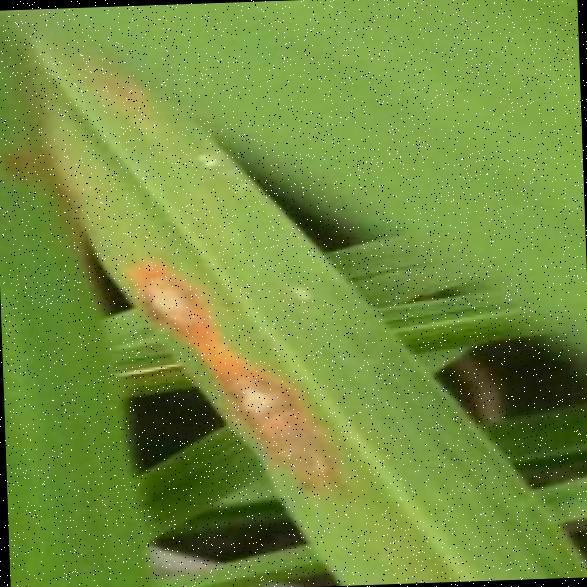Leaf_smut: (190, 342, 359, 493), (117, 230, 215, 341)
